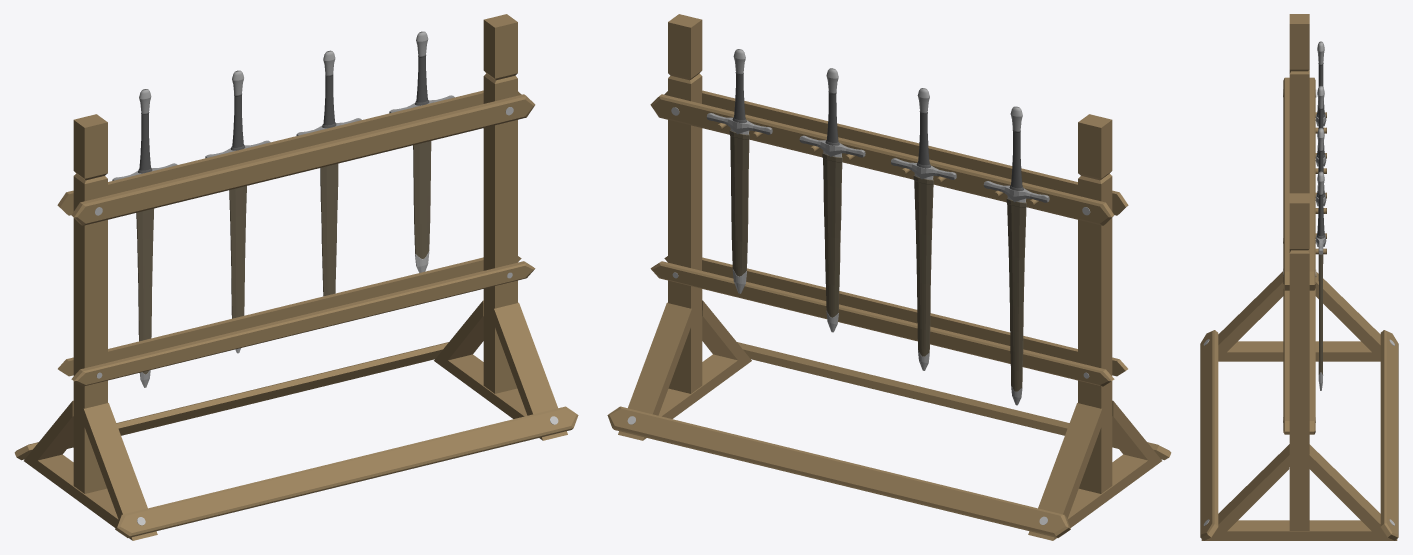
Rendered from SwordsAndSwordRack.fbx.
3 renders of one model, left to right at view 1: azimuth 30°, elevation 25°; view 2: azimuth 150°, elevation 25°; view 3: azimuth 270°, elevation 25°, orthographic. The views are drawn at different scales.
Parts seen in each view (by area): view 1: WeponRack, Sword4, Sword1, Sword2, Sword3; view 2: WeponRack, Sword4, Sword3, Sword2, Sword1; view 3: WeponRack, Sword1, Sword4, Sword2, Sword3.
Part boxes in pixels (x1=…): WeponRack: x1=14, y1=14, x2=578, y2=540; Sword4: x1=112, y1=89, x2=177, y2=387; Sword1: x1=389, y1=31, x2=454, y2=272; Sword2: x1=296, y1=50, x2=361, y2=296; Sword3: x1=205, y1=70, x2=270, y2=353; WeponRack: x1=607, y1=14, x2=1171, y2=540; Sword4: x1=983, y1=106, x2=1049, y2=405; Sword3: x1=891, y1=88, x2=956, y2=370; Sword2: x1=799, y1=68, x2=865, y2=332; Sword1: x1=707, y1=49, x2=772, y2=293; WeponRack: x1=1200, y1=14, x2=1398, y2=540; Sword1: x1=1315, y1=171, x2=1326, y2=390; Sword4: x1=1315, y1=41, x2=1326, y2=126; Sword2: x1=1315, y1=128, x2=1326, y2=206; Sword3: x1=1315, y1=86, x2=1326, y2=166.
Size of the model in its own units: 209 by 165 by 86.73.
